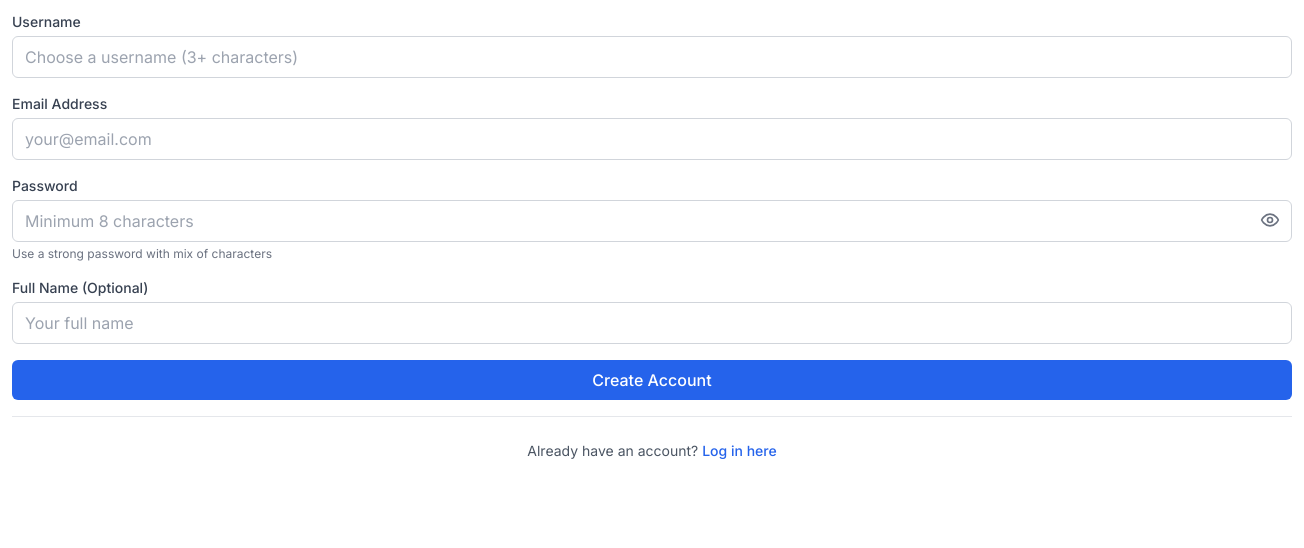
Test: SignupForm › should validate required fields
Click the button "Create Account". click: (652, 380)
box: top-left (12, 360), bottom-right (1292, 400)
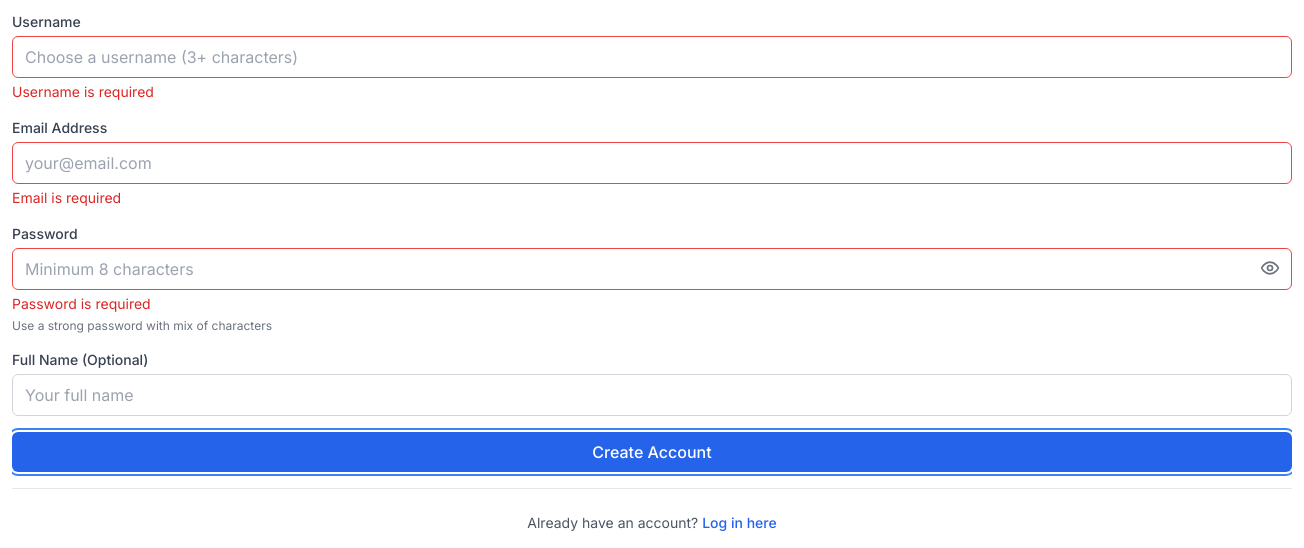
expect the text "Username is required" is shown: met, box top-left (12, 83), bottom-right (154, 100)
expect the text "Email is required" is shown: met, box top-left (12, 189), bottom-right (121, 206)
expect the text "Password is required" is shown: met, box top-left (12, 295), bottom-right (151, 312)
